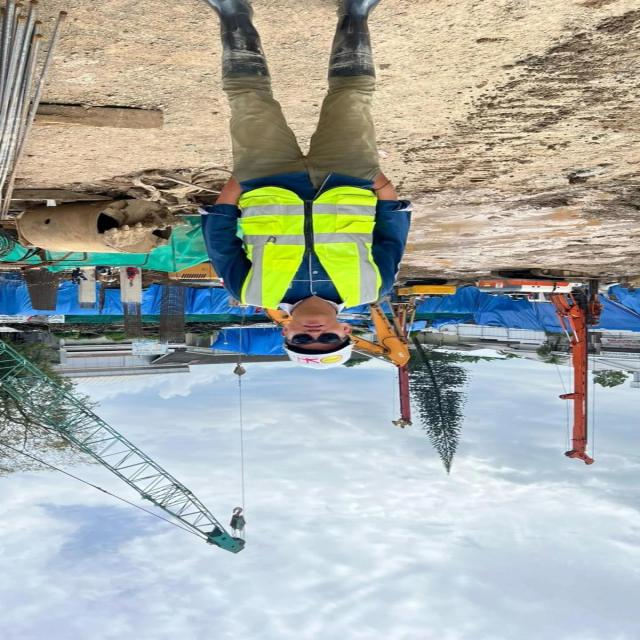safetyhelmet: (267, 303, 369, 380)
